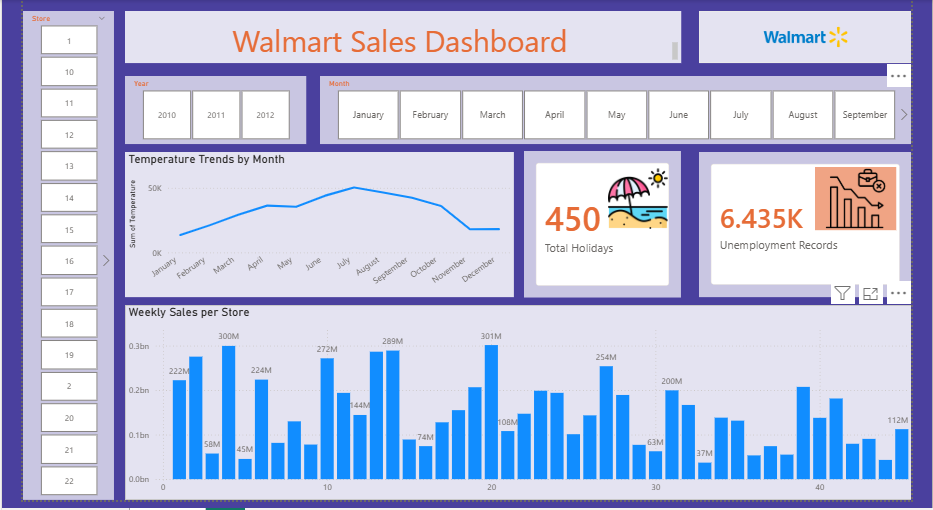

This screenshot's page, from the dashboard's own definition file:
{"tool":"powerbi","page":{"name":"Page 1","canvas":[1280,720],"ordinal":0},"visuals":[{"type":"slicer","fields":{"Values":["Walmart_Sales.Store"]},"box":[0,15.8,131,704.2],"z":0},{"type":"slicer","fields":{"Values":["Walmart_Sales.Date.Variation.Date Hierarchy.Year"]},"box":[146.9,109.4,260.6,97.9],"z":1000},{"type":"slicer","fields":{"Values":["Walmart_Sales.Date.Variation.Date Hierarchy.Month"]},"box":[427.7,109.4,852.5,97.9],"z":2000},{"type":"clusteredColumnChart","title":"Weekly Sales per Store","fields":{"Category":["dimention1.Store"],"Y":["Sum(Walmart_Sales.Weekly_Sales)"]},"box":[146.9,439.2,1133.3,280.8],"z":3000},{"type":"lineChart","title":"Temperature Trends by Month","fields":{"Y":["Sum(Walmart_Sales.Temperature)"],"Category":["Walmart_Sales.Date.Variation.Date Hierarchy.Month"]},"box":[146.9,218.9,560.2,208.8],"z":4000},{"type":"textbox","box":[146.9,15.8,800.6,74.9],"z":5000},{"type":"cardVisual","fields":{"Data":["CountNonNull(Walmart_Sales.Unemployment Records)"]},"box":[973.4,218.9,306.7,208.8],"z":5000,"group":"g2"},{"type":"group","id":"g1","title":"Group 1","box":[721.4,217.4,226.1,211],"z":6000},{"type":"cardVisual","fields":{"Data":["Sum(Walmart_Sales.Holiday_Flag)"]},"box":[721.4,217.4,226.1,211],"z":6000,"group":"g1"},{"type":"group","id":"g2","title":"Group 2","box":[973.4,218.9,306.7,208.8],"z":7000},{"type":"image","box":[841.7,226.8,86.4,116.6],"z":7001,"group":"g1"},{"type":"image","box":[1139.8,240.7,116.6,90.7],"z":7003,"group":"g2"},{"type":"image","box":[973.4,15.8,306.7,74.9],"z":8000}]}

Visuals, with their boxes in screenshot pixels (x1, y1, x2, y2), scaled from the page's 1280x720 canvas onto the 933x510 screenshot:
slicer - Walmart_Sales.Store: <box>0,11,95,509</box>
slicer - Walmart_Sales.Date.Variation.Date Hierarchy.Year: <box>107,77,297,147</box>
slicer - Walmart_Sales.Date.Variation.Date Hierarchy.Month: <box>312,77,932,147</box>
"Weekly Sales per Store" clusteredColumnChart: <box>107,311,932,509</box>
"Temperature Trends by Month" lineChart: <box>107,155,515,303</box>
textbox: <box>107,11,691,64</box>
cardVisual - CountNonNull(Walmart_Sales.Unemployment Records): <box>710,155,932,303</box>
"Group 1" group: <box>526,154,691,303</box>
cardVisual - Sum(Walmart_Sales.Holiday_Flag): <box>526,154,691,303</box>
"Group 2" group: <box>710,155,932,303</box>
image: <box>614,161,676,243</box>
image: <box>831,170,916,235</box>
image: <box>710,11,932,64</box>
